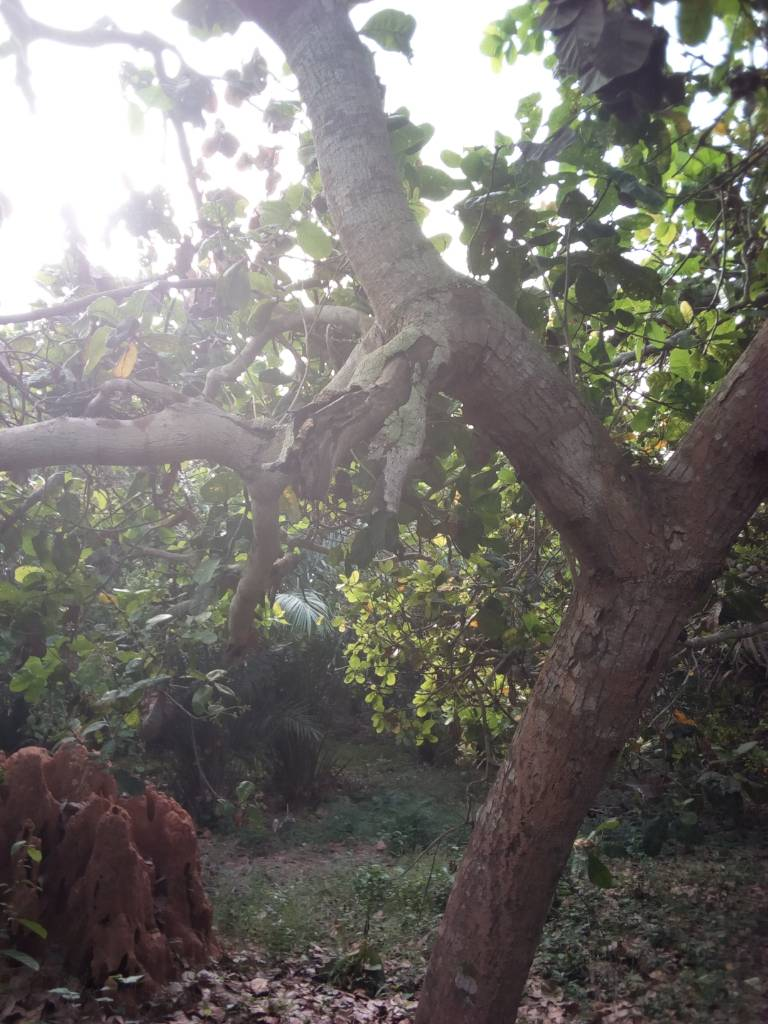Termites: (2, 746, 200, 978), (444, 677, 575, 1024)
